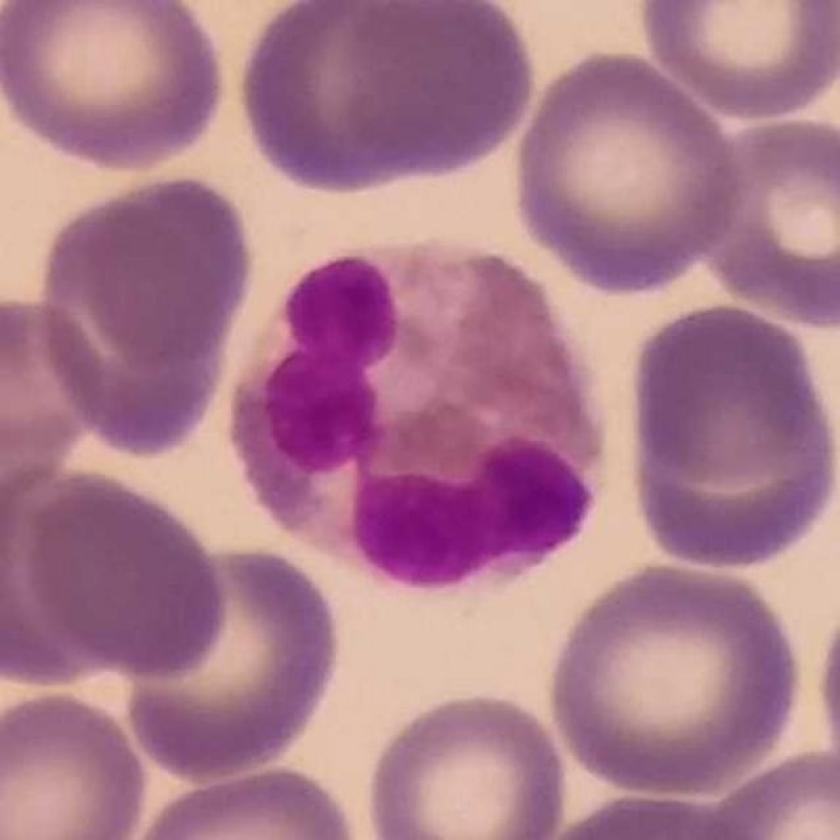eosinophil: (232, 236, 610, 596)
